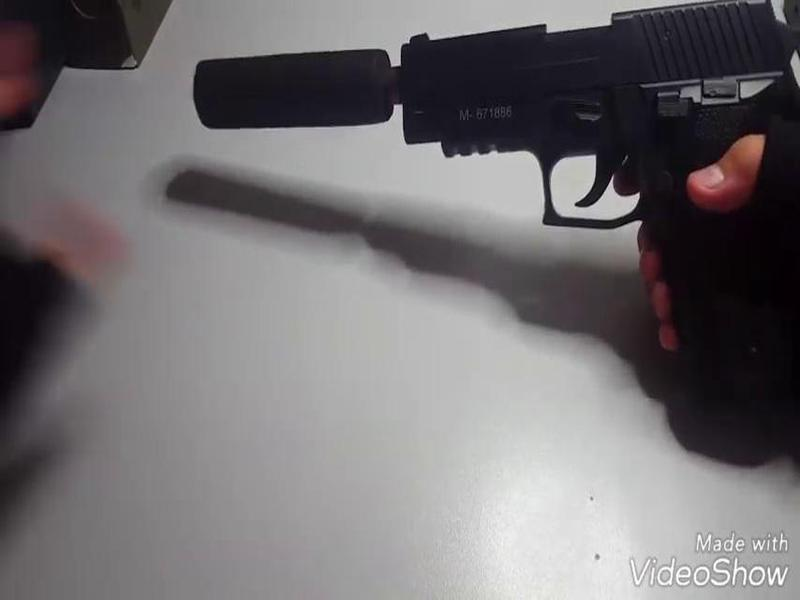Pistola: (394, 2, 797, 390)
